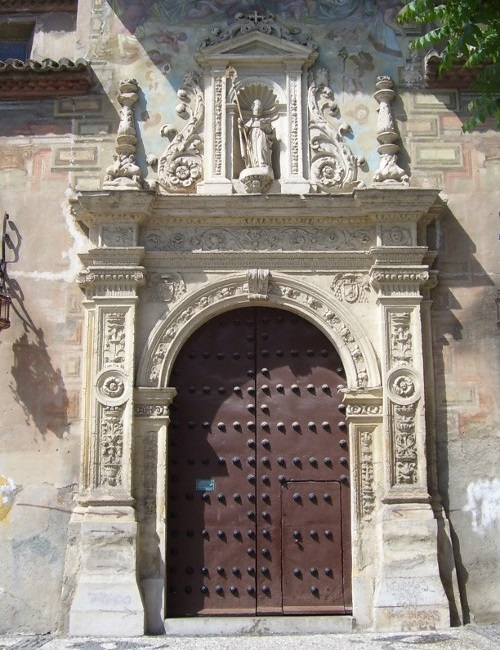arco-medio-punto: (158, 293, 358, 434)
fronton: (195, 24, 321, 70)
